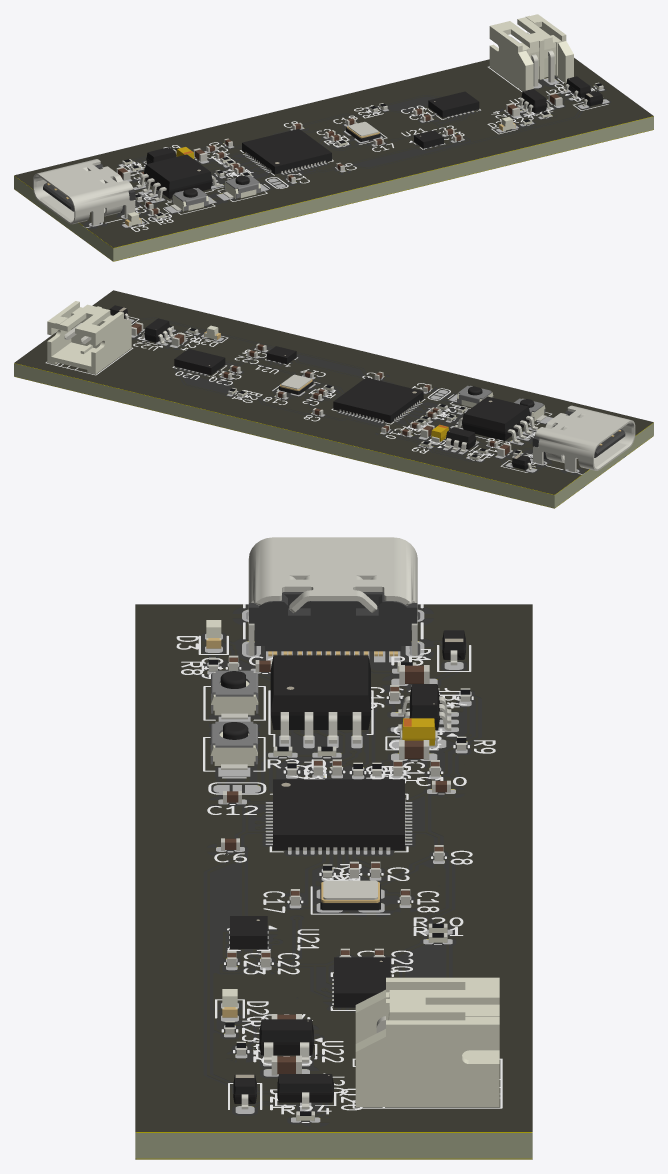
The model's file is rocket-recorder.glb.
The picture shows the model from 3 angles, top to bottom: view 1: azimuth 30°, elevation 25°; view 2: azimuth 150°, elevation 25°; view 3: azimuth 270°, elevation 25°; orthographic projection. The views are drawn at different scales.
Parts seen in each view (by area): view 1: Board, RP2040 core, LiPo charger, USB-C power, IMU, 3.3 V regulator, Barometer; view 2: Board, RP2040 core, LiPo charger, USB-C power, 3.3 V regulator, IMU, Barometer; view 3: Board, RP2040 core, LiPo charger, USB-C power, 3.3 V regulator, IMU, Barometer.
Boxes of the visible parts, x1=… form: Board: x1=14, y1=58, x2=653, y2=261; RP2040 core: x1=122, y1=118, x2=383, y2=215; LiPo charger: x1=489, y1=14, x2=604, y2=130; USB-C power: x1=33, y1=159, x2=141, y2=225; IMU: x1=413, y1=91, x2=479, y2=121; 3.3 V regulator: x1=116, y1=147, x2=207, y2=180; Barometer: x1=414, y1=128, x2=462, y2=148; Board: x1=14, y1=290, x2=653, y2=508; RP2040 core: x1=276, y1=370, x2=546, y2=460; LiPo charger: x1=47, y1=301, x2=220, y2=374; USB-C power: x1=510, y1=405, x2=635, y2=472; 3.3 V regulator: x1=420, y1=424, x2=511, y2=456; IMU: x1=174, y1=348, x2=240, y2=378; Barometer: x1=247, y1=343, x2=296, y2=364; Board: x1=135, y1=604, x2=532, y2=1159; RP2040 core: x1=210, y1=655, x2=470, y2=910; LiPo charger: x1=222, y1=977, x2=499, y2=1121; USB-C power: x1=248, y1=537, x2=465, y2=672; 3.3 V regulator: x1=390, y1=665, x2=451, y2=759; IMU: x1=334, y1=948, x2=390, y2=1007; Barometer: x1=227, y1=916, x2=270, y2=967.
Bounding box in the file's own units: 0.0672 × 0.00825 × 0.021.
